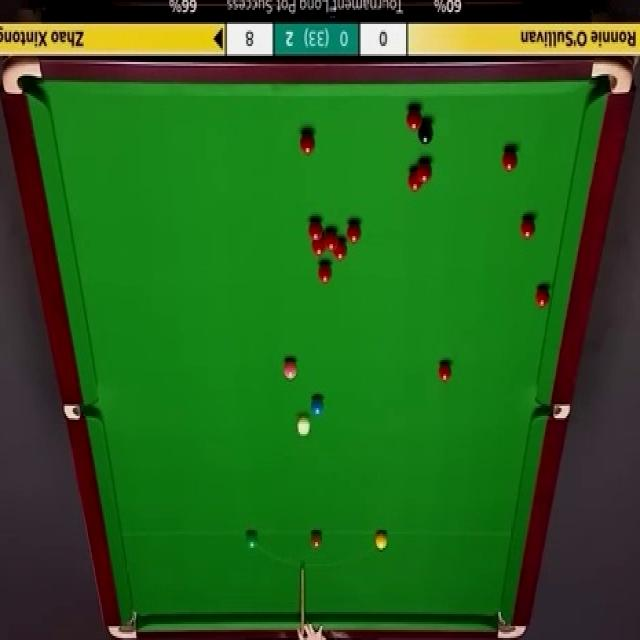black-ball: (416, 116, 434, 148)
blue-ball: (308, 393, 324, 418)
brown-ball: (309, 529, 323, 549)
green-ball: (246, 528, 260, 550)
pink-ball: (280, 356, 299, 384)
red-ball: (404, 103, 423, 130), (520, 214, 537, 242), (415, 158, 434, 183), (316, 260, 334, 286), (534, 284, 552, 310), (502, 147, 518, 173), (346, 220, 362, 244), (300, 130, 315, 155), (323, 228, 339, 251), (332, 240, 349, 261), (406, 170, 422, 192), (437, 361, 452, 384), (308, 220, 323, 242), (310, 238, 326, 256)
white-ball: (296, 413, 312, 438)
yellow-ball: (374, 530, 388, 550)
